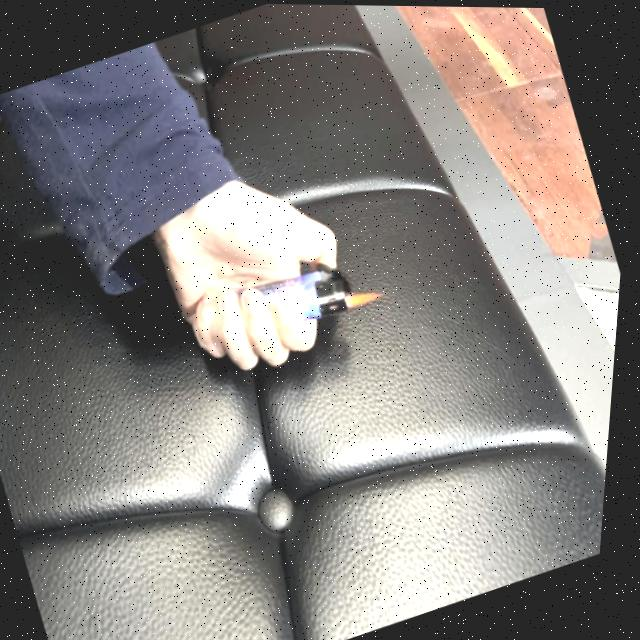Fire: (346, 281, 392, 309)
